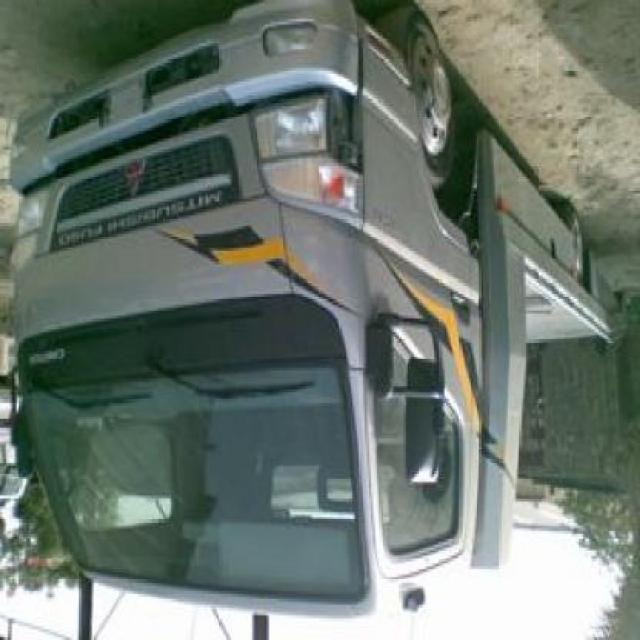truck: (11, 3, 619, 625)
